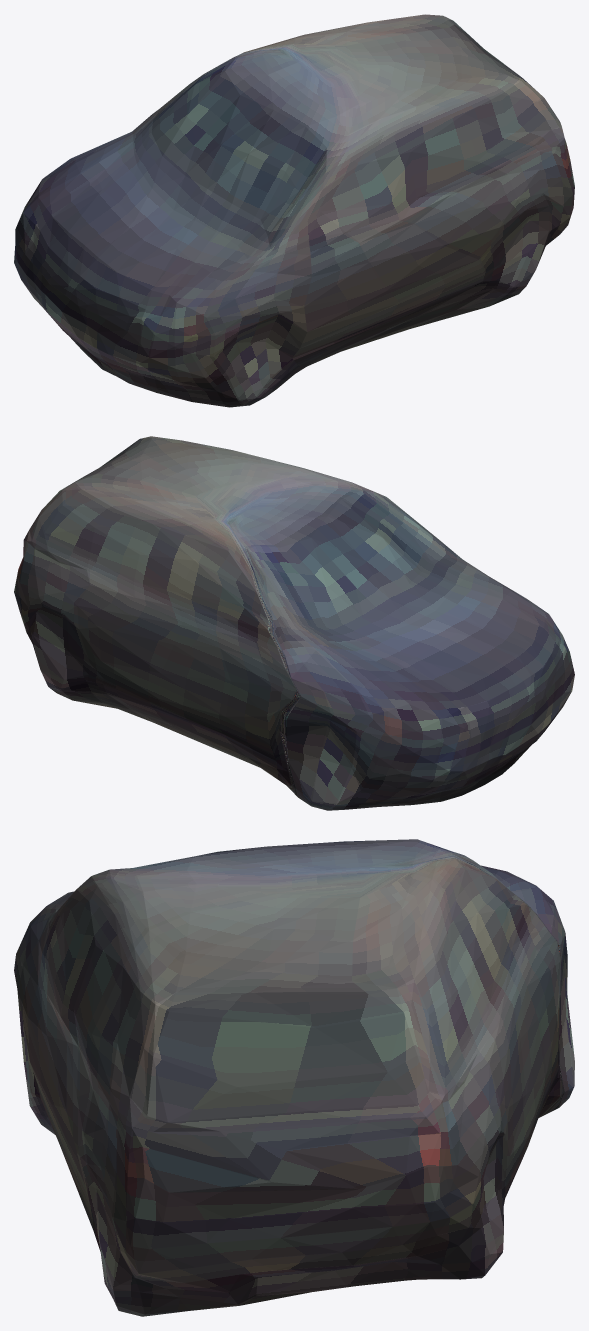
The model's file is video3_379.obj.
The picture shows the model from 3 angles, top to bottom: view 1: azimuth 30°, elevation 25°; view 2: azimuth 150°, elevation 25°; view 3: azimuth 270°, elevation 25°; orthographic projection. The views are drawn at different scales.
Bounding box in the file's own units: 1 × 0.4864 × 0.6512.
Materials: 1 (1 with a texture image).
